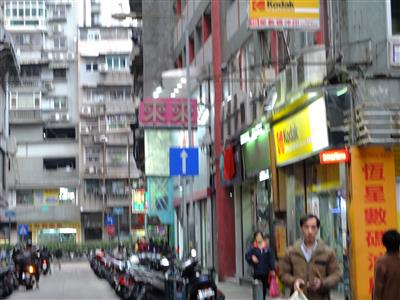oneway: (167, 145, 200, 176)
